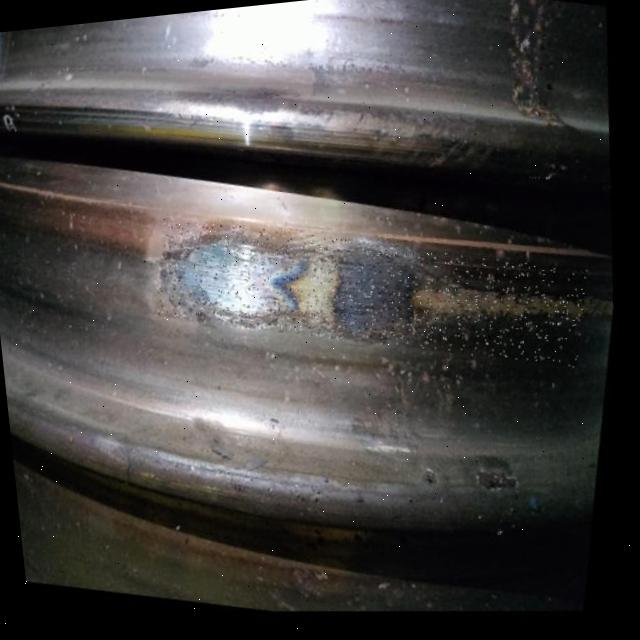flat: (141, 191, 600, 422)
